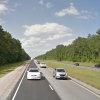Car: (20, 62, 43, 84)
